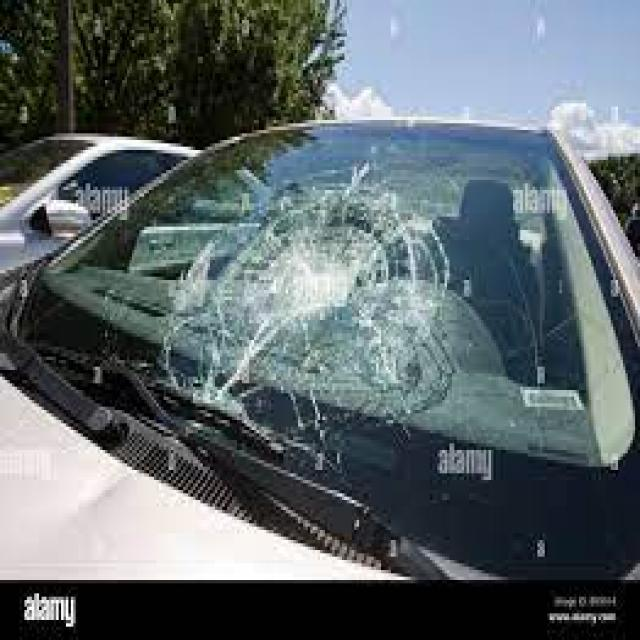damaged-windscreen: (19, 120, 640, 584)
